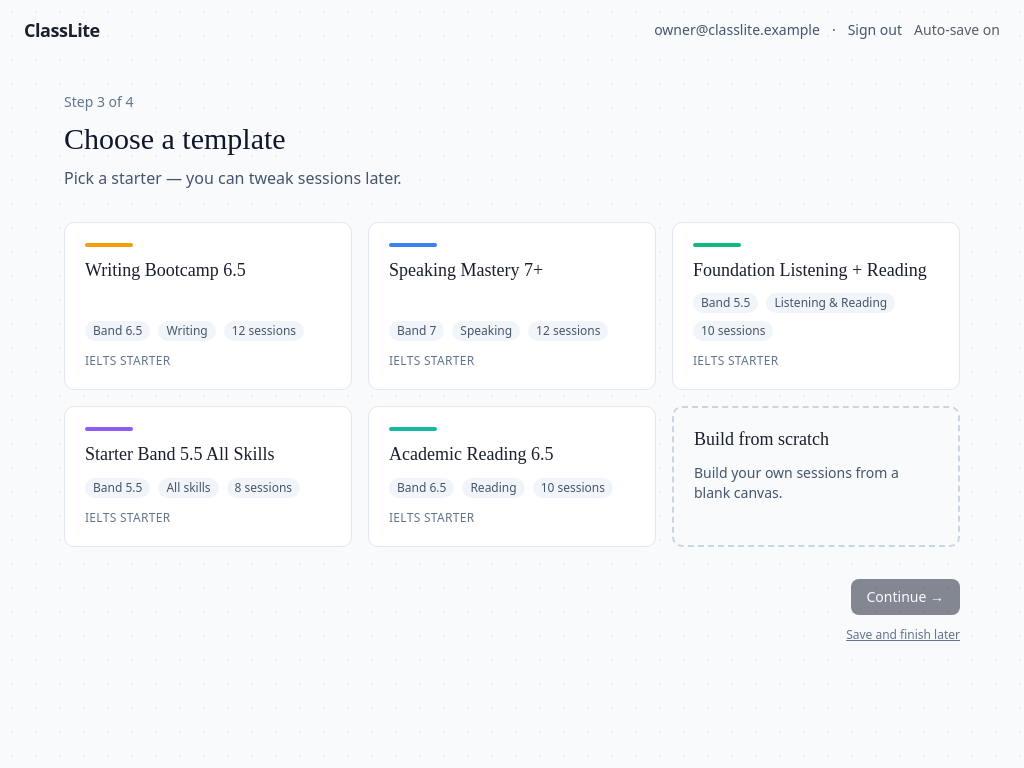
Test: AC3 — selection opens preview drawer + Continue advances › selecting a card expands inline preview panel below the grid
What coordinates should you click on to do the following:
click the radio button labelled "Writing Bootcamp 6.5"
I would click on:
 (208, 306)
Its box is [64,222,352,390].
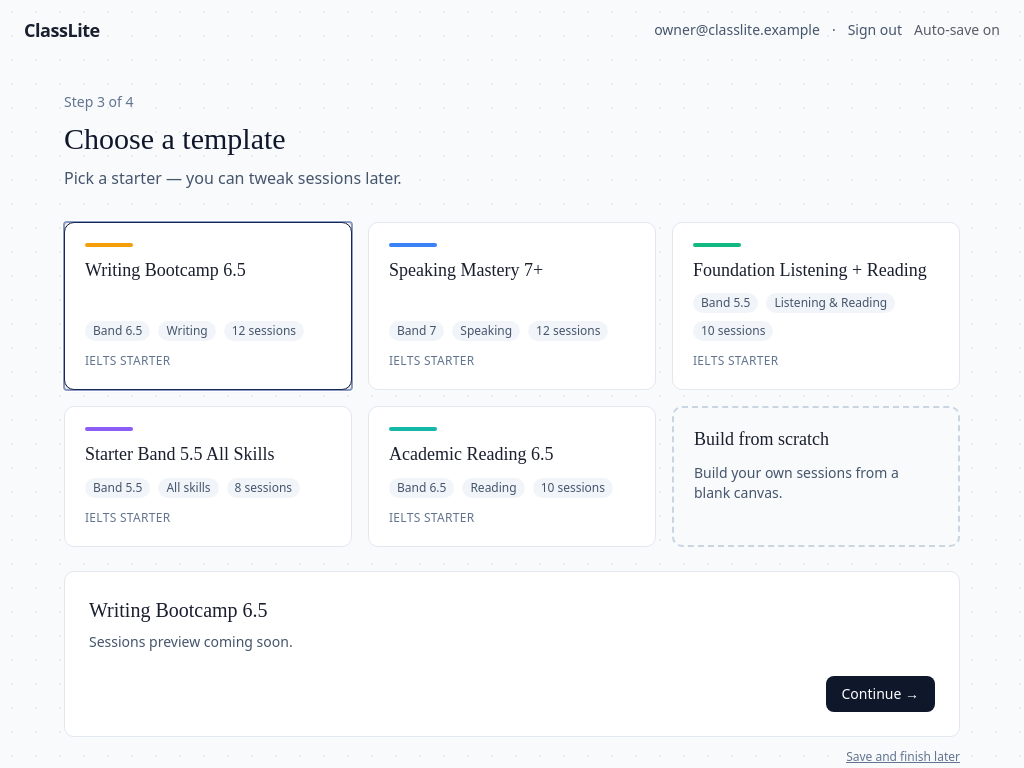
Check: the element with test id "template-preview-drawer" is shown, box [64,570,960,736]
Check: the button "Continue →" is enabled, box [826,676,935,712]
